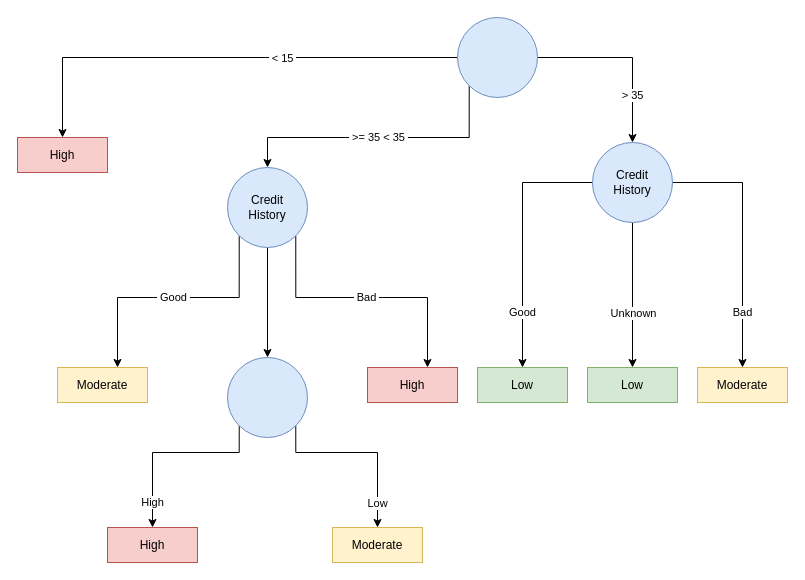
Image size: 805x580. Some labels were removed from this diagram. The shapes that lost their labels are listed below. From the top down, each one's box as (x1, y1, x2, y2) in pixels, then its label:
(456, 16, 538, 98): Income
(226, 356, 308, 438): Debts
